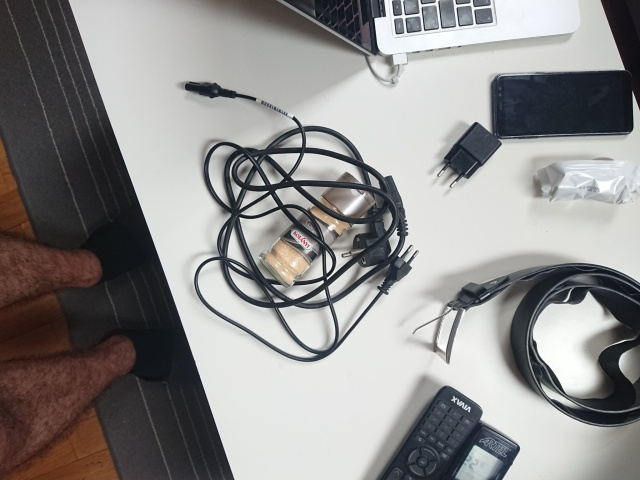Kotanyi Garlic Granules 70g: (255, 169, 378, 290)
